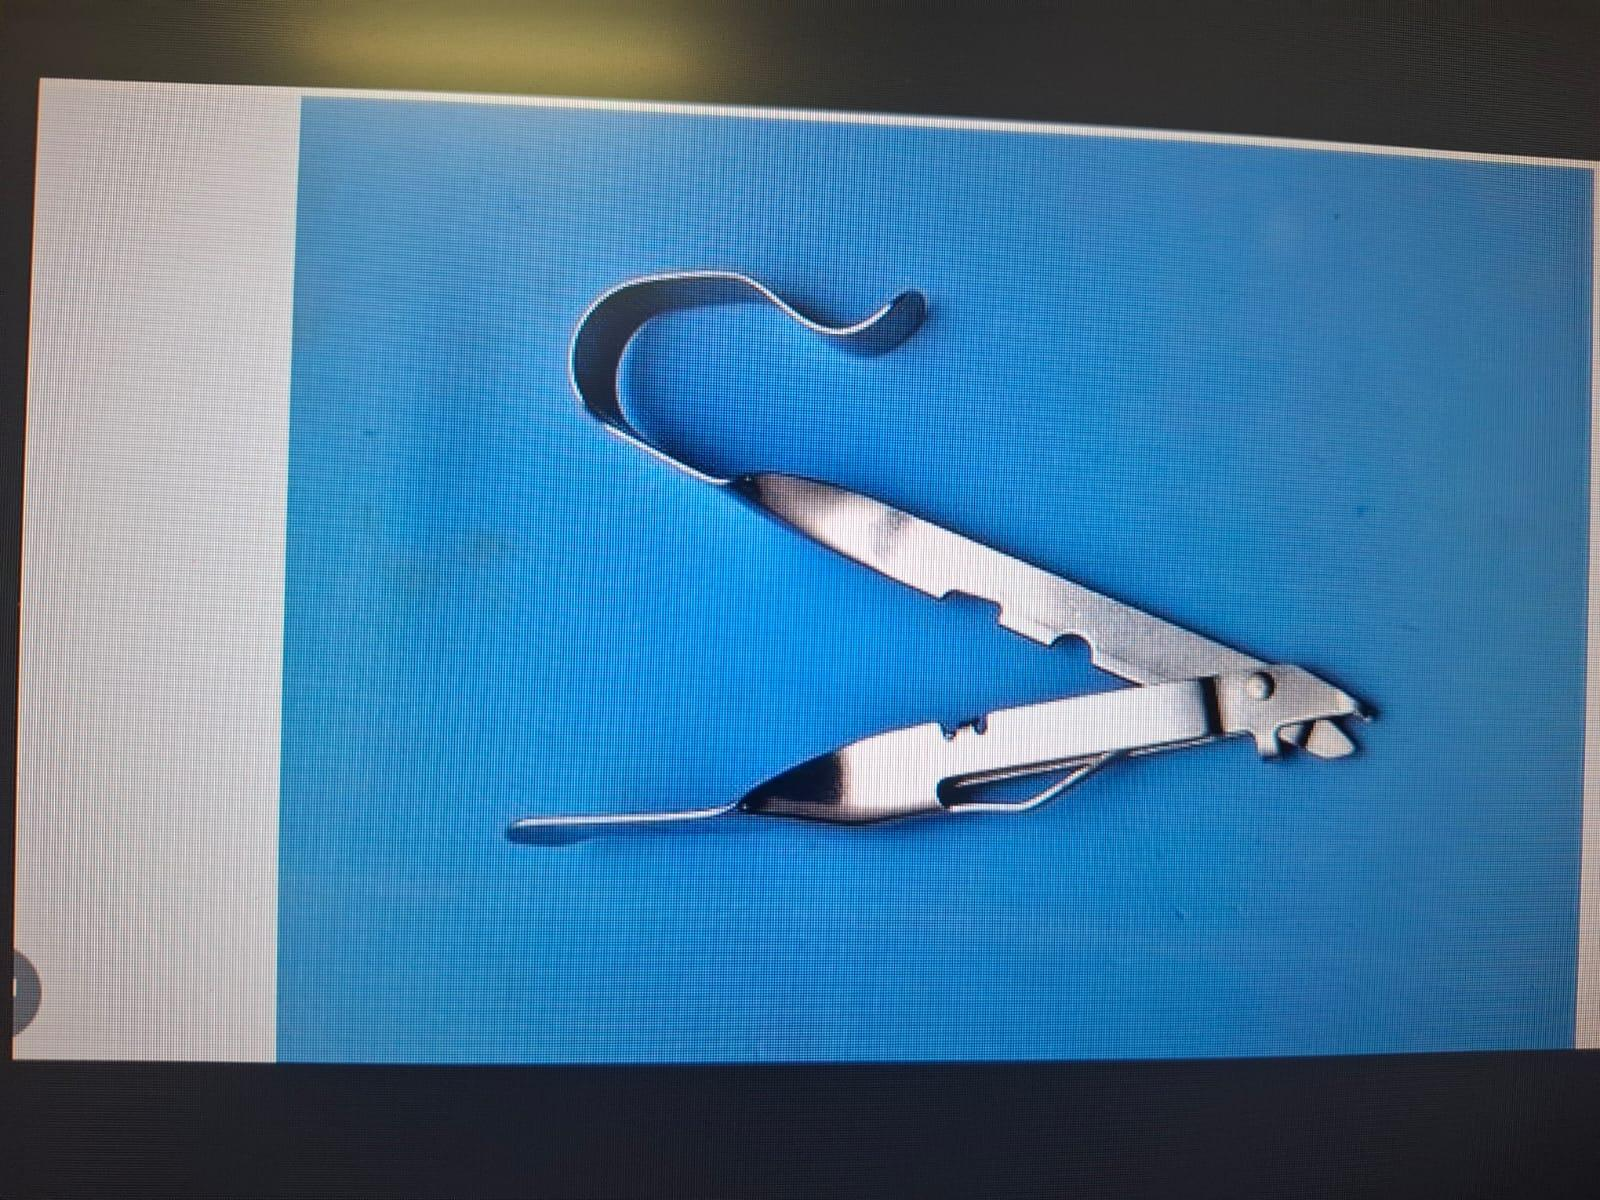Stapler Remover: (480, 252, 1412, 894)
